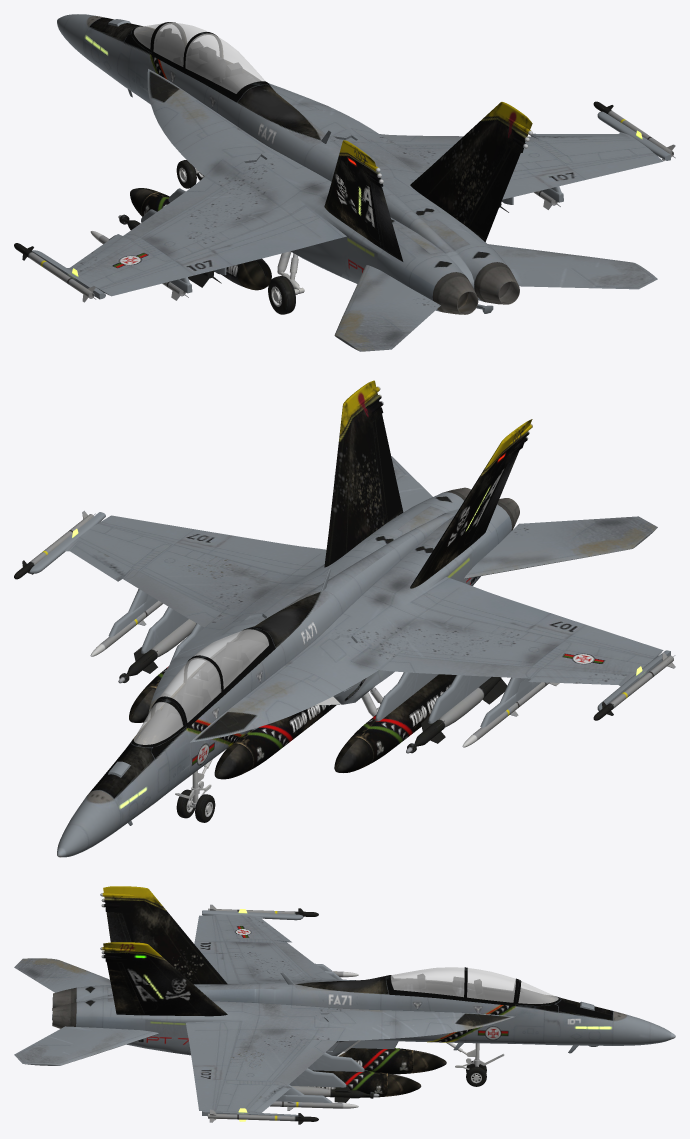
3 views of the same model, one above another, from view 1: azimuth 30°, elevation 25°; view 2: azimuth 150°, elevation 25°; view 3: azimuth 270°, elevation 25° (orthographic). The views are drawn at different scales.
Visible parts, largest first — view 1: desirefx.me_002, desirefx.me_017, desirefx.me_012, desirefx.me_013, desirefx.me_026, desirefx.me_094, desirefx.me_016, desirefx.me_030, desirefx.me_033, desirefx.me_020, desirefx.me_009, desirefx.me_021 (+19 smaller); view 2: desirefx.me_002, desirefx.me_017, desirefx.me_012, desirefx.me_026, desirefx.me_094, desirefx.me_016, desirefx.me_085, desirefx.me_027, desirefx.me_087, desirefx.me_003, desirefx.me_020, desirefx.me_033 (+24 smaller); view 3: desirefx.me_002, desirefx.me_016, desirefx.me_017, desirefx.me_013, desirefx.me_094, desirefx.me_027, desirefx.me_087, desirefx.me_012, desirefx.me_086, desirefx.me_010, desirefx.me_003, desirefx.me_021 (+24 smaller).
Part boxes in pixels (bbox=[...]): desirefx.me_002: bbox=[83, 17, 564, 311]; desirefx.me_017: bbox=[410, 102, 532, 241]; desirefx.me_012: bbox=[334, 265, 440, 351]; desirefx.me_013: bbox=[488, 244, 657, 289]; desirefx.me_026: bbox=[174, 206, 343, 275]; desirefx.me_094: bbox=[153, 22, 265, 93]; desirefx.me_016: bbox=[324, 140, 403, 261]; desirefx.me_030: bbox=[432, 262, 519, 314]; desirefx.me_033: bbox=[135, 28, 257, 93]; desirefx.me_020: bbox=[67, 237, 173, 288]; desirefx.me_009: bbox=[291, 236, 377, 283]; desirefx.me_021: bbox=[531, 132, 653, 164]; desirefx.me_002: bbox=[89, 492, 565, 830]; desirefx.me_017: bbox=[324, 380, 403, 567]; desirefx.me_012: bbox=[464, 516, 657, 578]; desirefx.me_026: bbox=[412, 578, 585, 639]; desirefx.me_094: bbox=[155, 629, 268, 722]; desirefx.me_016: bbox=[410, 419, 532, 588]; desirefx.me_085: bbox=[334, 674, 456, 772]; desirefx.me_027: bbox=[174, 529, 326, 575]; desirefx.me_087: bbox=[214, 705, 336, 779]; desirefx.me_003: bbox=[57, 790, 120, 857]; desirefx.me_020: bbox=[531, 640, 653, 686]; desirefx.me_033: bbox=[135, 639, 266, 744]; desirefx.me_002: bbox=[76, 941, 613, 1081]; desirefx.me_016: bbox=[100, 886, 227, 984]; desirefx.me_017: bbox=[100, 942, 227, 1016]; desirefx.me_013: bbox=[14, 1026, 158, 1065]; desirefx.me_094: bbox=[391, 967, 515, 1002]; desirefx.me_027: bbox=[186, 1021, 239, 1079]; desirefx.me_087: bbox=[339, 1048, 446, 1074]; desirefx.me_012: bbox=[14, 958, 110, 992]; desirefx.me_086: bbox=[308, 1070, 421, 1097]; desirefx.me_010: bbox=[145, 1019, 358, 1056]; desirefx.me_003: bbox=[612, 1011, 675, 1045]; desirefx.me_021: bbox=[216, 1080, 273, 1112].
Size of the model in its own units: 13.65 by 5.15 by 18.27.
2 materials, 1 textured.
